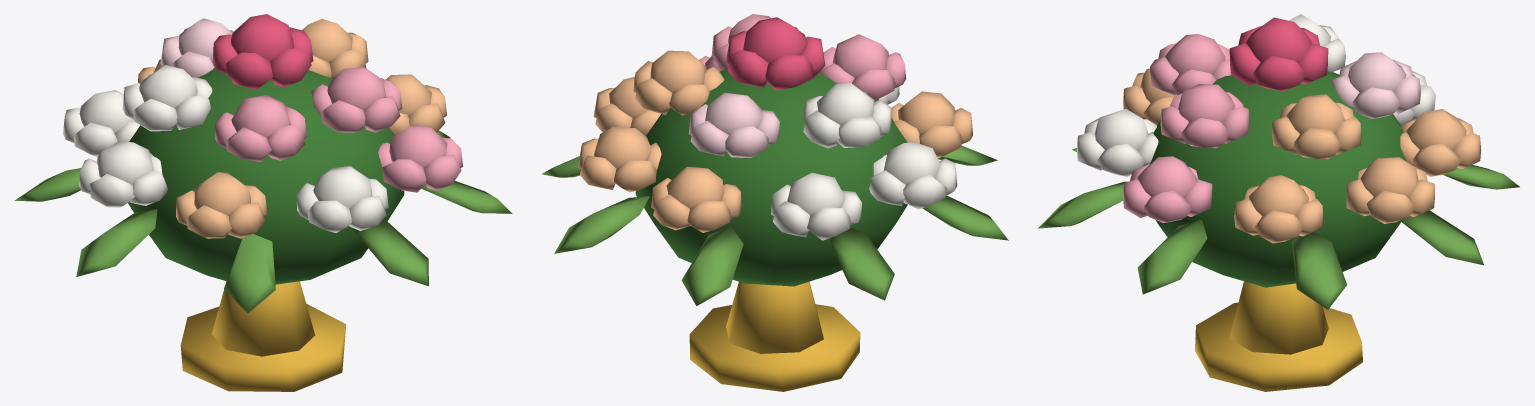
Rendered from centro_mesa.glb.
3 views of the same model, side by side, from view 1: azimuth 30°, elevation 25°; view 2: azimuth 150°, elevation 25°; view 3: azimuth 270°, elevation 25° (orthographic).
Visible parts, largest first — view 1: Centro_Mesa; view 2: Centro_Mesa; view 3: Centro_Mesa.
Boxes of the visible parts, x1,y1,x2,y2 form: Centro_Mesa: [14, 14, 512, 391]; Centro_Mesa: [541, 14, 1008, 391]; Centro_Mesa: [1038, 14, 1519, 391].
Bounding box in the file's own units: 0.5759 × 0.4406 × 0.5759.
